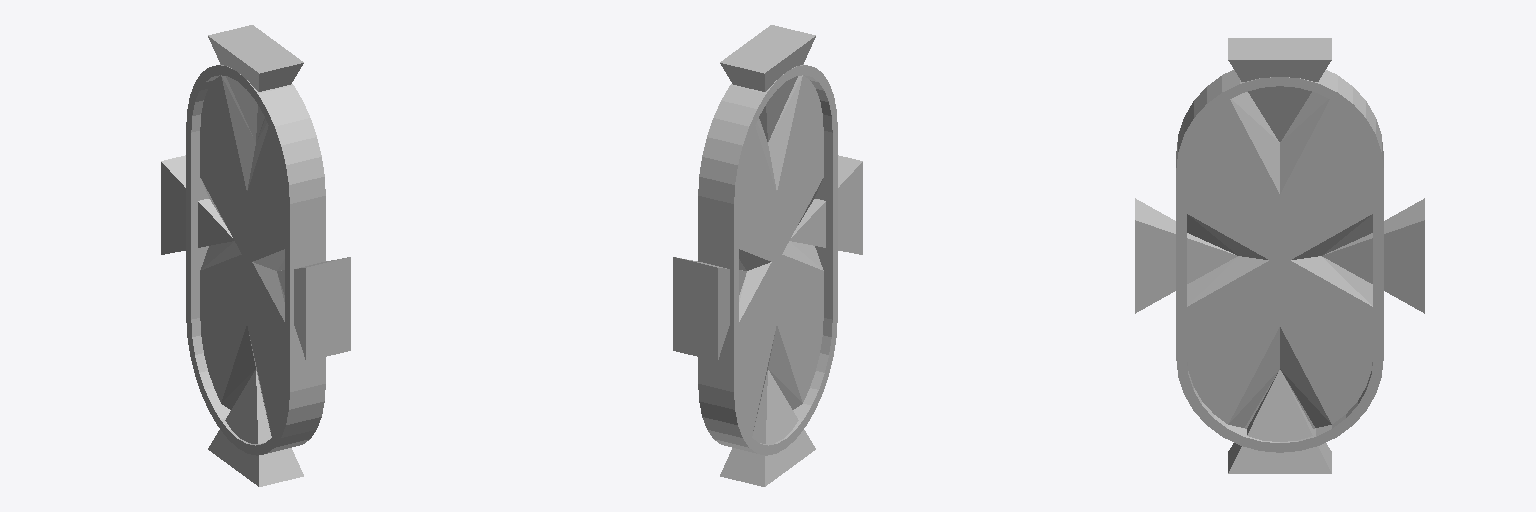
The model's file is portal_entrance.obj.
3 views of the same model, side by side, from view 1: azimuth 30°, elevation 25°; view 2: azimuth 150°, elevation 25°; view 3: azimuth 270°, elevation 25° (orthographic).
Visible parts, largest first — view 1: portal_entrance; view 2: portal_entrance; view 3: portal_entrance.
Boxes of the visible parts, x1,y1,x2,y2 form: portal_entrance: [161, 25, 350, 486]; portal_entrance: [673, 25, 862, 486]; portal_entrance: [1135, 38, 1424, 473].
Size of the model in its own units: 0.25 by 2.2 by 1.4.